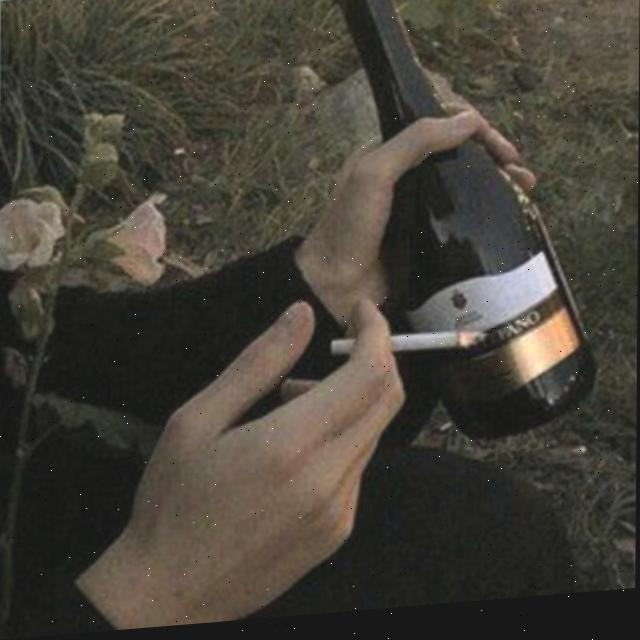cigarette: (334, 338, 485, 365)
